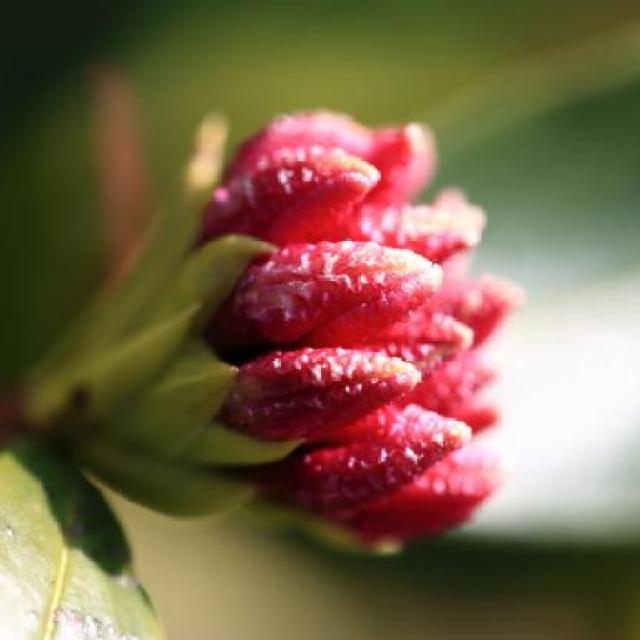Strawberry: (263, 382, 472, 520)
